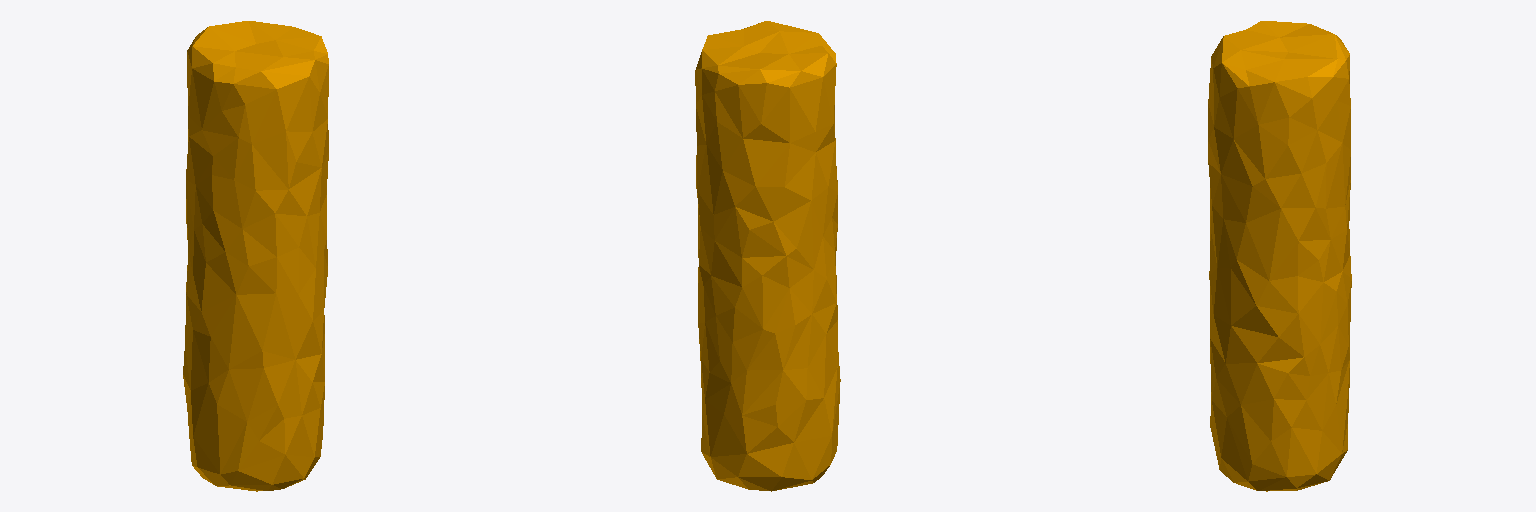
robot.urdf — pringles_bbq:
<?xml version="1.0"?>
<robot name="pringles_bbq">
  <link name="base_link">
    <contact>
      <lateral_friction value="1.0"/>
      <rolling_friction value="0.0"/>
      <contact_cfm value="0.0"/>
      <contact_erp value="1.0"/>
    </contact>
    <inertial>
      <mass value="0.689352228817"/>
      <inertia ixx="1" ixy="0" ixz="0" iyy="1" iyz="0" izz="1"/>
    </inertial>
    <visual>
      <geometry>
        <mesh filename="pringles_bbq_visual.obj"/>
      </geometry>
    </visual>
    <collision>
      <geometry>
        <mesh filename="pringles_bbq_collision.obj"/>
      </geometry>
    </collision>
  </link>
</robot>

--- Facts derived from the render (not from the file) ---
Views: 3 orthographic renders of the robot side by side, from view 1: azimuth 30°, elevation 25°; view 2: azimuth 150°, elevation 25°; view 3: azimuth 270°, elevation 25°.
Model pringles_bbq with 1 links and 0 joints (none), rooted at base_link, posed all joints at 0.
Visible links, largest first — view 1: base_link; view 2: base_link; view 3: base_link.
Link boxes in pixels (x1,y1,x2,y2): base_link: (183,21,328,491); base_link: (695,21,840,491); base_link: (1208,21,1351,491).
Size in the robot's own frame: 0.07 by 0.0683 by 0.2271 metres.
Meshes: 1 distinct files referenced, 1 mesh visuals loaded (1 OBJ).